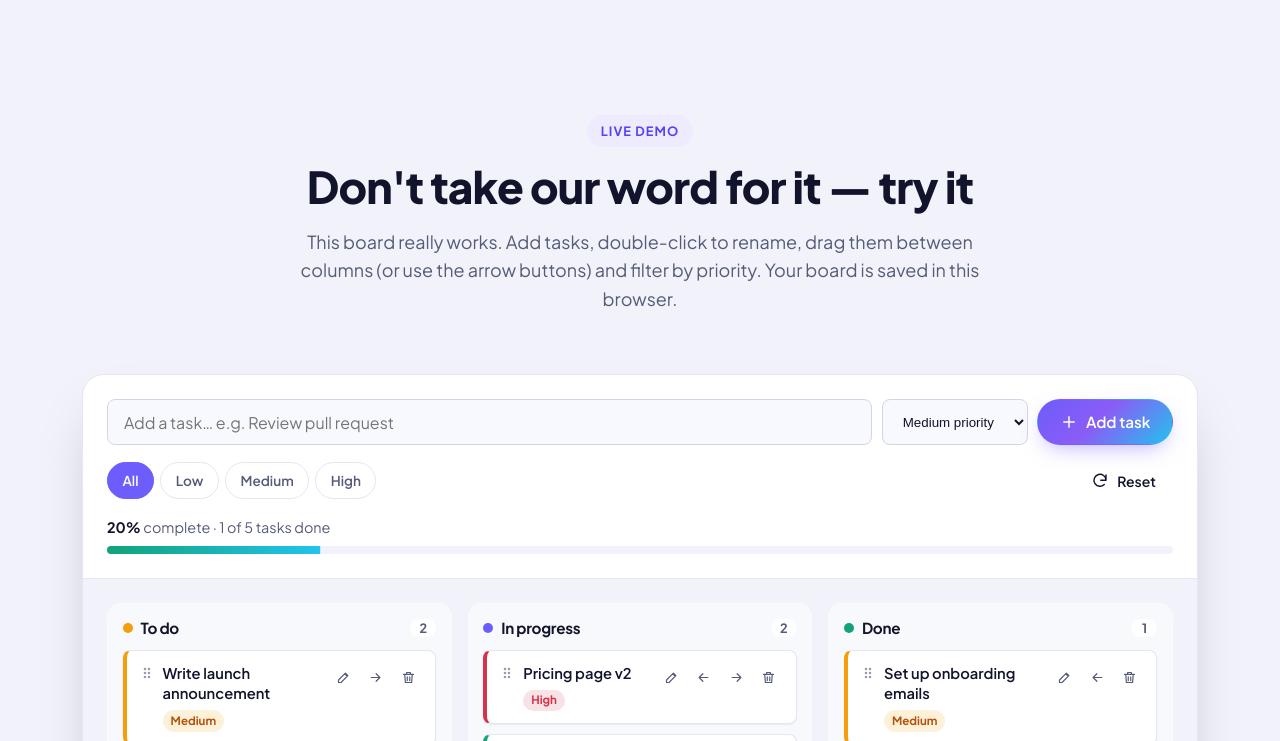
Test case: BoardDemo › shows a validation error for an empty task
The image size is (1280, 741).
Click the button "Add task": (1105, 422) top-left (1037, 399), bottom-right (1173, 445)
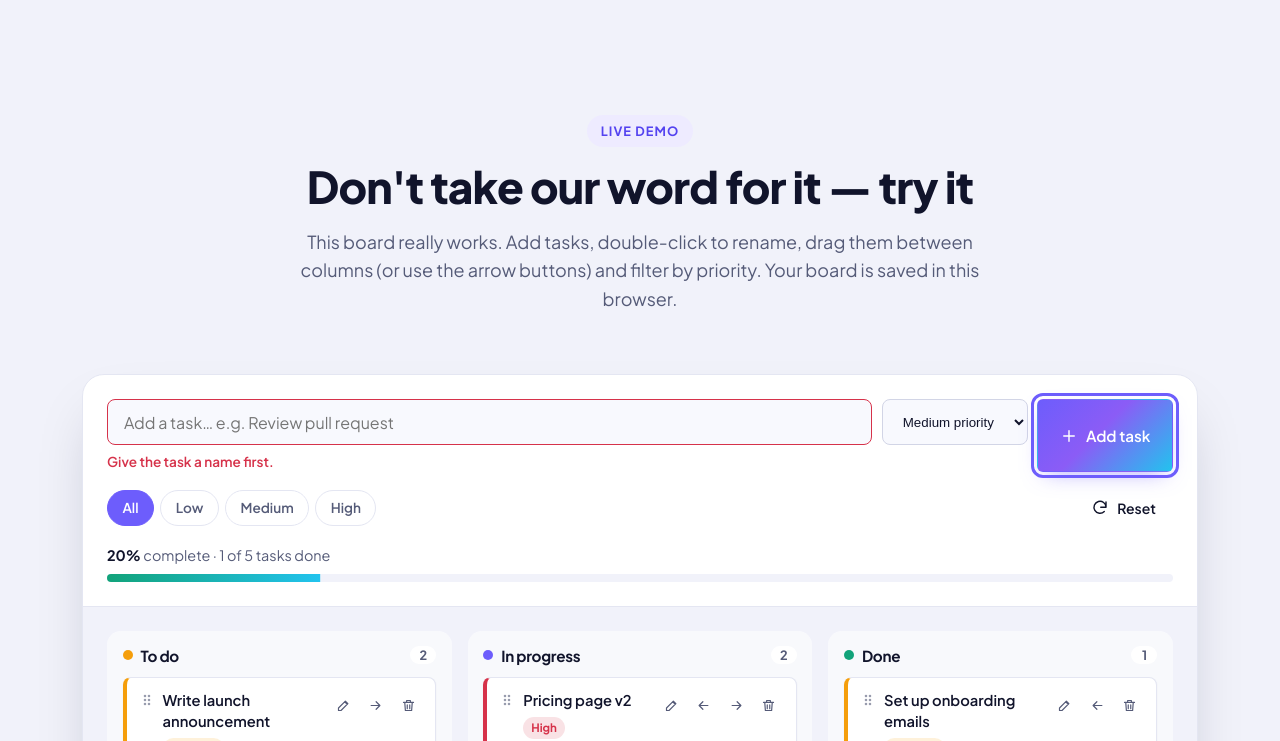
Expected: the message reads "Give the task a name first.", top-left (107, 453), bottom-right (274, 470)
